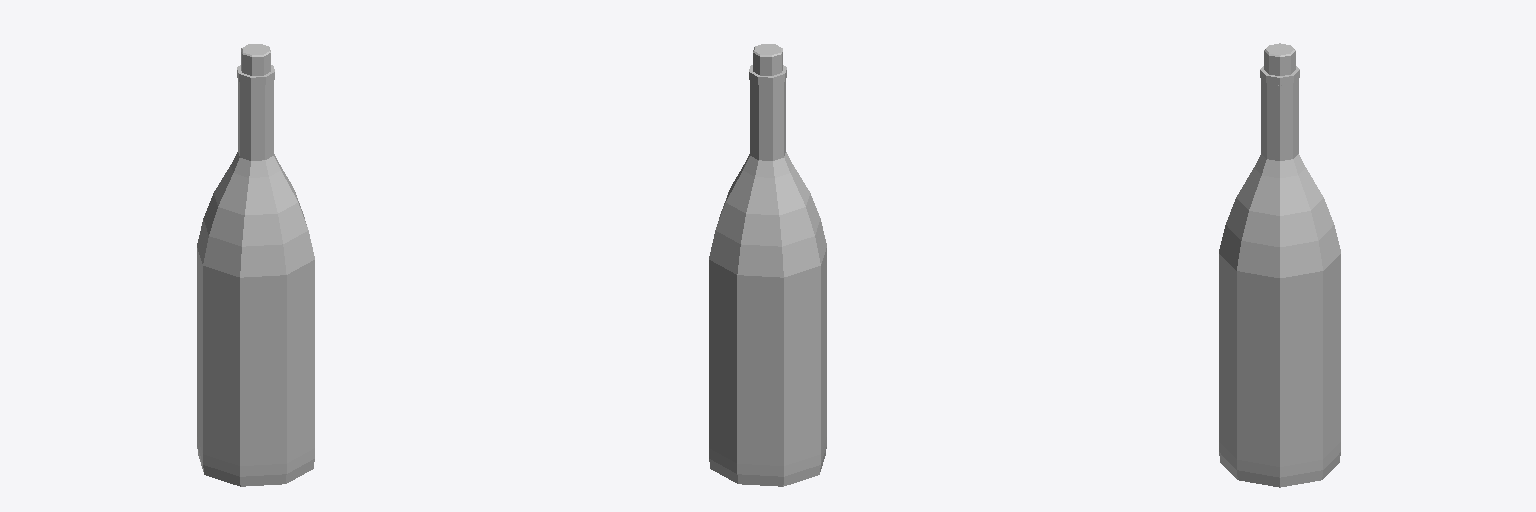
The model's file is Bottle_Of_Wine_10.obj.
The picture shows the model from 3 angles: view 1: azimuth 30°, elevation 25°; view 2: azimuth 150°, elevation 25°; view 3: azimuth 270°, elevation 25°; orthographic projection.
Visible parts, largest first — view 1: Circle.004; view 2: Circle.004; view 3: Circle.004.
Boxes of the visible parts, x1=… form: Circle.004: x1=197, y1=44, x2=314, y2=486; Circle.004: x1=709, y1=44, x2=826, y2=486; Circle.004: x1=1219, y1=43, x2=1340, y2=487.
Bounding box in the file's own units: 2.68 × 9.95 × 2.68.